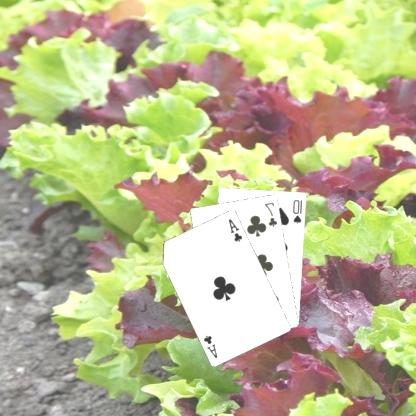10S: (292, 197, 306, 225)
7C: (264, 199, 280, 228)
AC: (203, 332, 221, 360), (227, 216, 245, 243)
